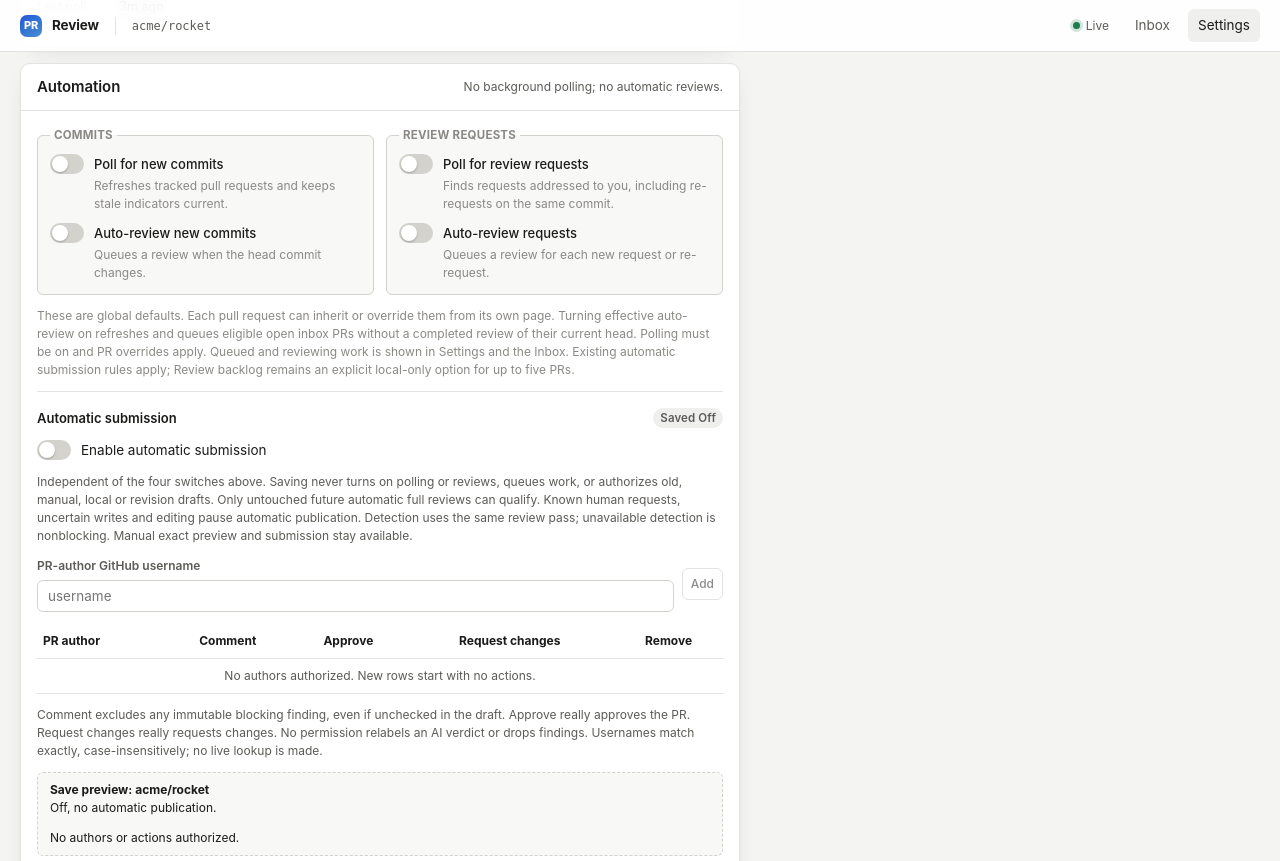
Test: automatic submission policy › defaults off and empty, independent of four automation switches and missing historical fields
The image size is (1280, 861).
(page scrolled)
Expected: the heading "Automatic submission" is shown, 37,408 -> 177,428
Expected: the text "No authors authorized. New rows start with no actions." is shown, 37,658 -> 723,693
Step 1. Click the switch labelled "Enable automatic submission" → (152, 450), box 37,440 -> 266,460
(page scrolled)
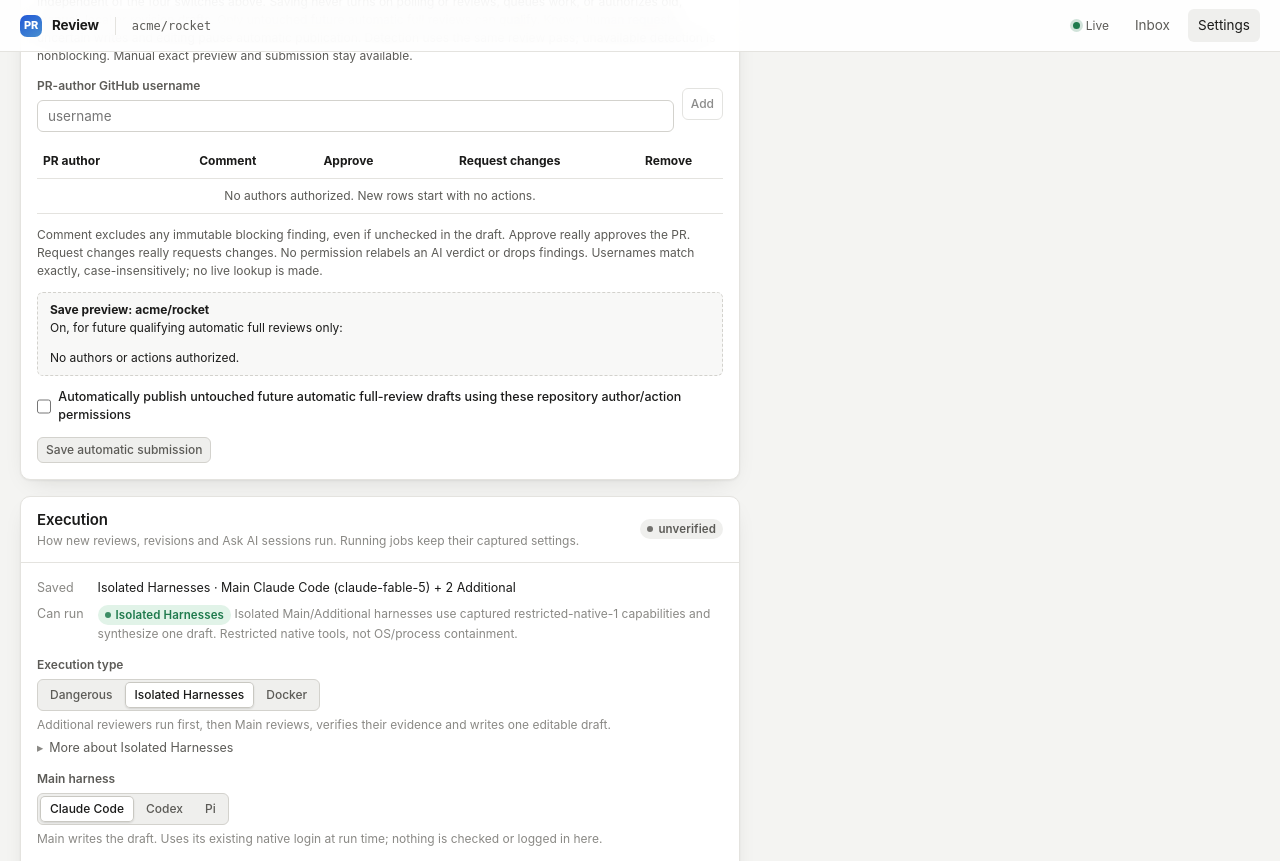
Now the checkbox named "Automatically publish untouched future automatic full-review drafts using these repository author/action permissions" is not checked, box 37,399 -> 51,414
Now the button "Save automatic submission" is disabled, box 37,437 -> 212,463
